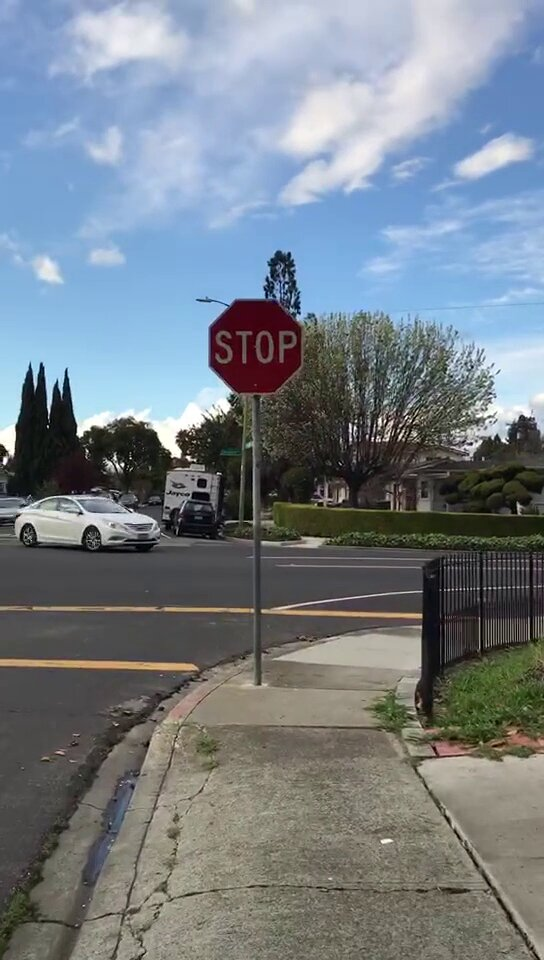stop_sign: (207, 299, 304, 391)
